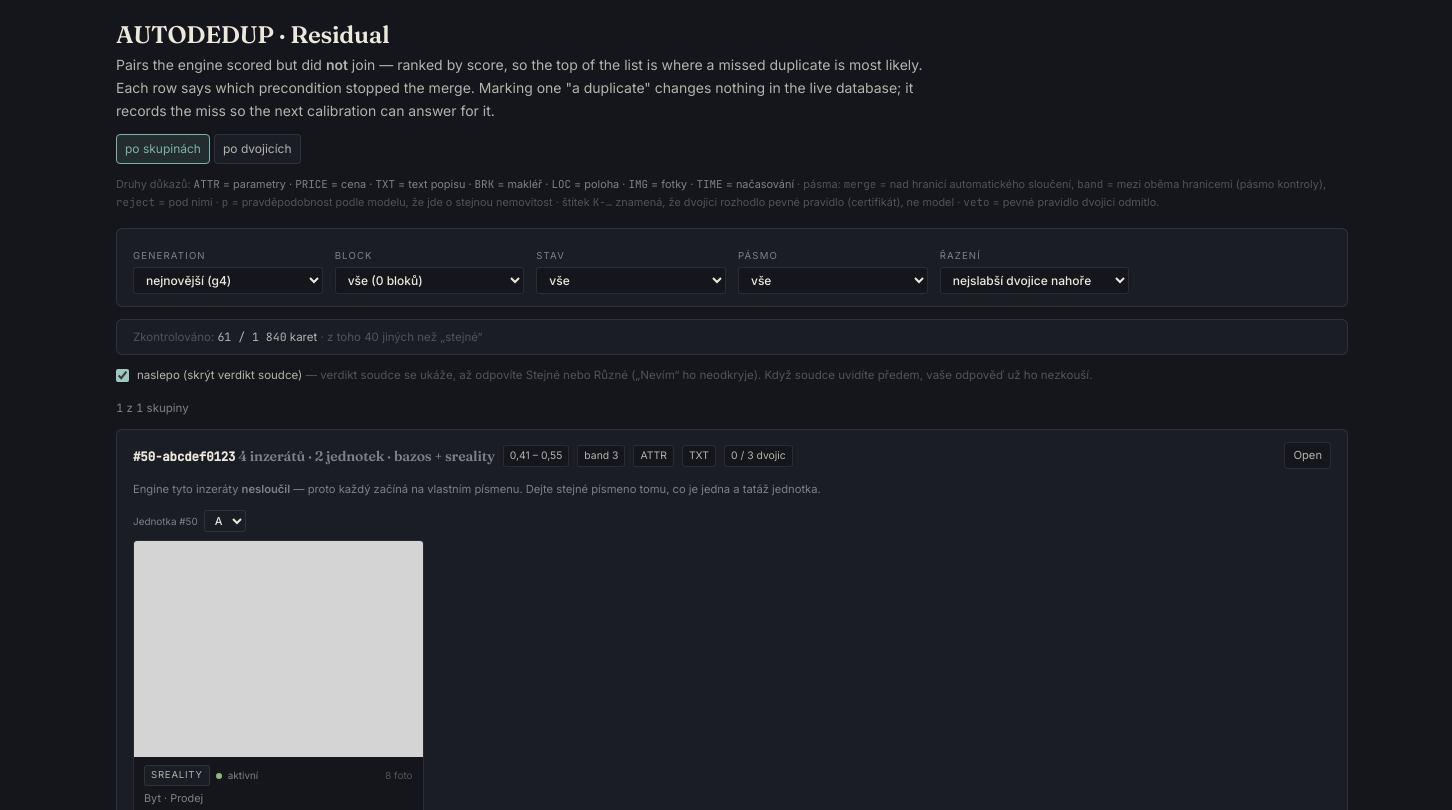
it: <AutodedupResidual> · po skupinách › switches to the pair view, puts it in the URL, and the pair queue takes over
The image size is (1452, 810).
Step 1. Click the button "po dvojicích" → [257, 149], box [214,134,301,164]
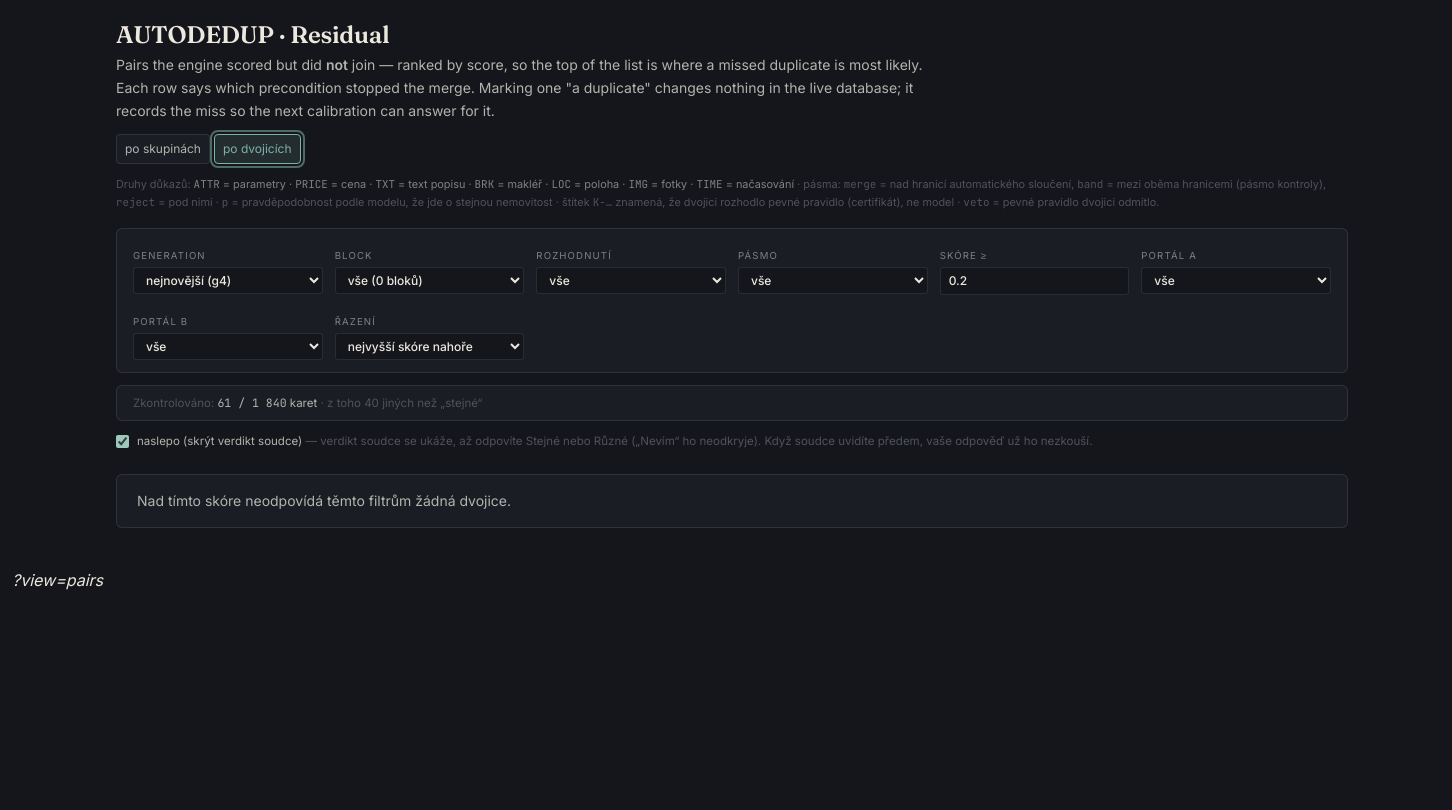
Result: the text with test id "search" shows "view=pairs" at [12,570,103,590]
